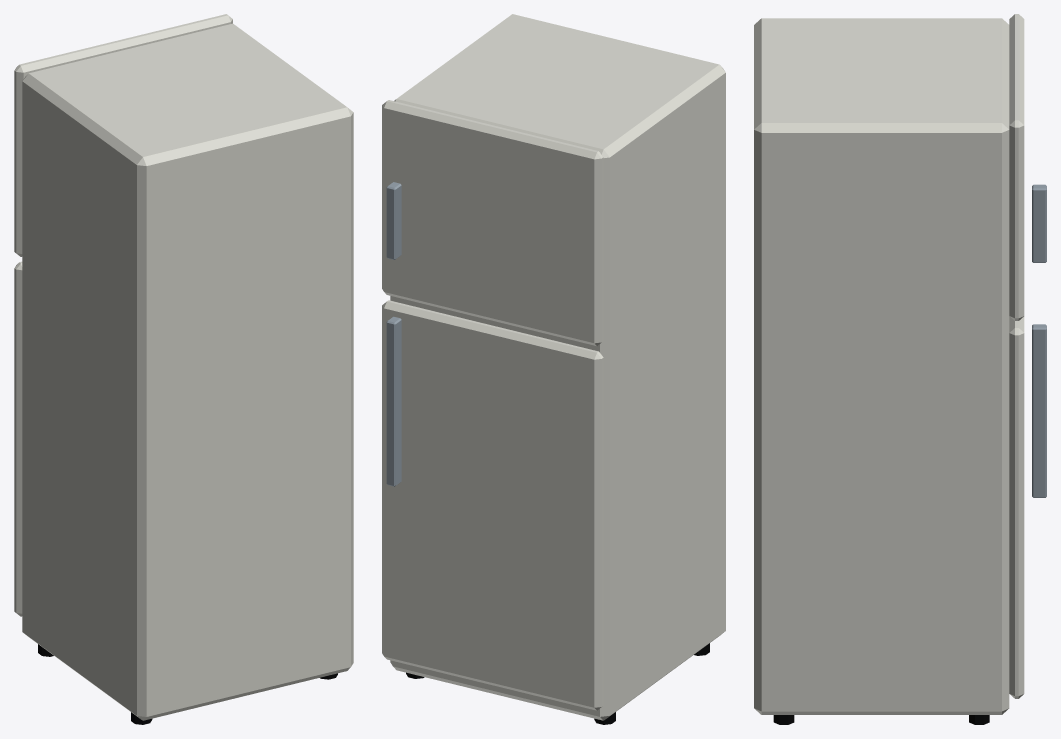
File: INTERIOR_08_Refrigerator.obj
The picture shows the model from 3 angles, left to right: view 1: azimuth 30°, elevation 25°; view 2: azimuth 150°, elevation 25°; view 3: azimuth 270°, elevation 25°; orthographic projection. The views are drawn at different scales.
Visible parts, largest first — view 1: INTERIOR_08_Refrigerator_Body, INTERIOR_08_Refrigerator_Door_Freezer, INTERIOR_08_Refrigerator_Door_Fridge; view 2: INTERIOR_08_Refrigerator_Body, INTERIOR_08_Refrigerator_Door_Fridge, INTERIOR_08_Refrigerator_Door_Freezer, INTERIOR_08_Refrigerator_Handles; view 3: INTERIOR_08_Refrigerator_Body, INTERIOR_08_Refrigerator_Door_Fridge, INTERIOR_08_Refrigerator_Door_Freezer, INTERIOR_08_Refrigerator_Handles.
Boxes of the visible parts, x1,y1,x2,y2 form: INTERIOR_08_Refrigerator_Body: (22, 23, 353, 720); INTERIOR_08_Refrigerator_Door_Freezer: (14, 14, 232, 256); INTERIOR_08_Refrigerator_Door_Fridge: (14, 261, 22, 616); INTERIOR_08_Refrigerator_Body: (390, 14, 725, 720); INTERIOR_08_Refrigerator_Door_Fridge: (382, 300, 603, 710); INTERIOR_08_Refrigerator_Door_Freezer: (382, 100, 603, 345); INTERIOR_08_Refrigerator_Handles: (386, 182, 401, 486); INTERIOR_08_Refrigerator_Body: (754, 18, 1009, 714); INTERIOR_08_Refrigerator_Door_Fridge: (1009, 316, 1024, 698); INTERIOR_08_Refrigerator_Door_Freezer: (1009, 14, 1024, 320); INTERIOR_08_Refrigerator_Handles: (1032, 184, 1046, 497).
Size of the model in its own units: 0.7 by 1.78 by 0.78.
